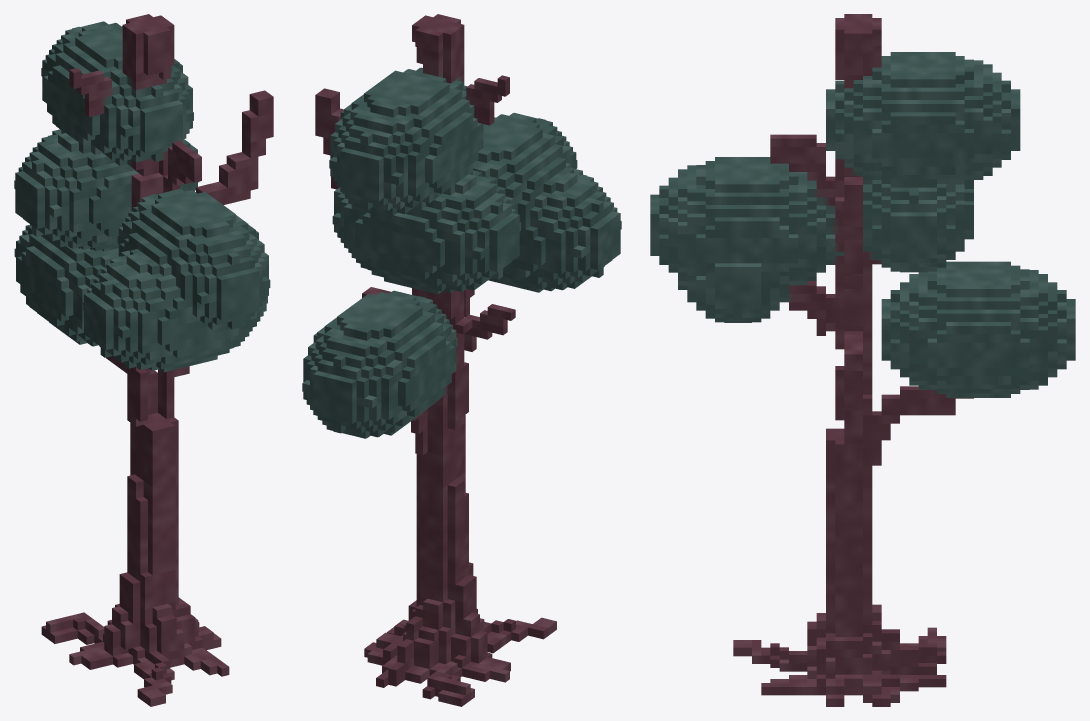
File: Tree_state_2.fbx
The picture shows the model from 3 angles, left to right: view 1: azimuth 30°, elevation 25°; view 2: azimuth 150°, elevation 25°; view 3: azimuth 270°, elevation 25°; orthographic projection. The views are drawn at different scales.
Parts seen in each view (by area): view 1: Tree_state_2; view 2: Tree_state_2; view 3: Tree_state_2.
Part boxes in pixels (box(x1,y1,x2,y2)): Tree_state_2: box(14, 14, 273, 706); Tree_state_2: box(302, 14, 621, 706); Tree_state_2: box(650, 14, 1075, 706).
Size of the model in its own units: 30 by 78 by 46.
1 material, 1 textured.
